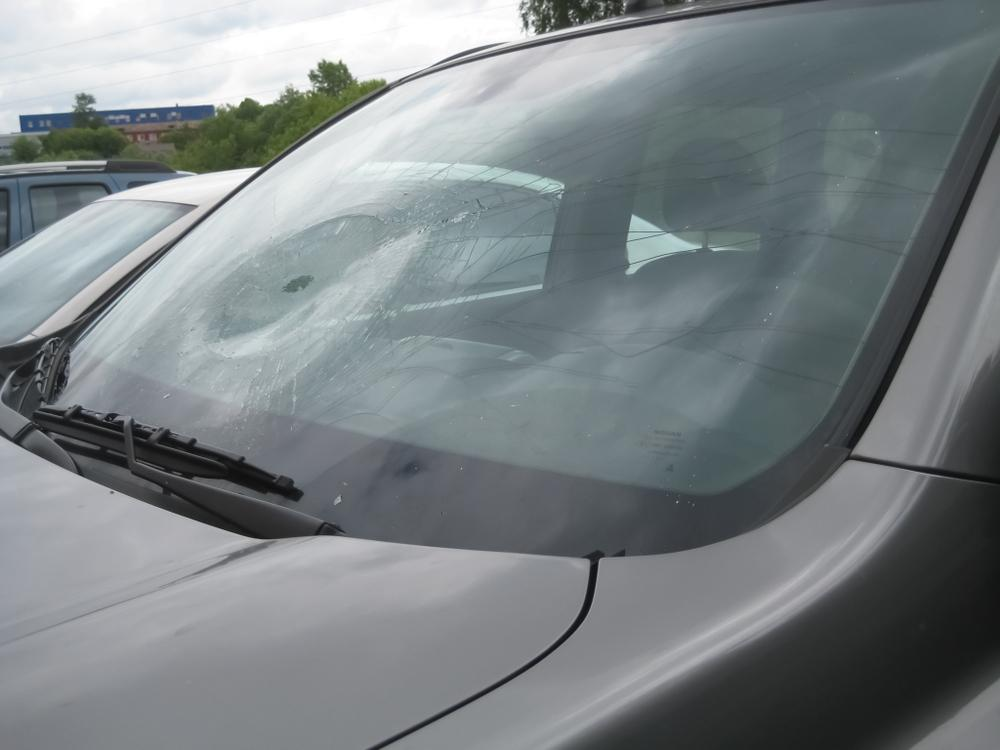glass shatter: (64, 0, 1000, 556)
